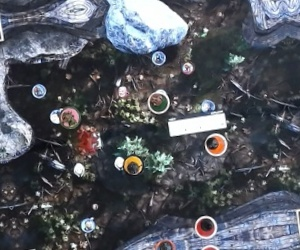giant_red_octopus: (77, 126, 104, 152)
green: (145, 88, 172, 114)
light_blue_orange: (149, 234, 180, 250)
orange: (203, 130, 230, 156)
pink_green: (57, 104, 83, 130)
red: (191, 211, 219, 239)
yellow_night_blue: (121, 152, 147, 178)
